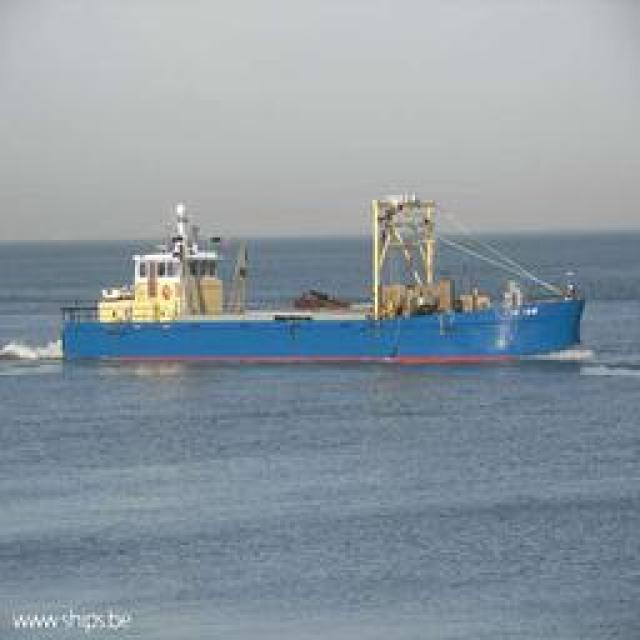ship2: (59, 195, 587, 364)
